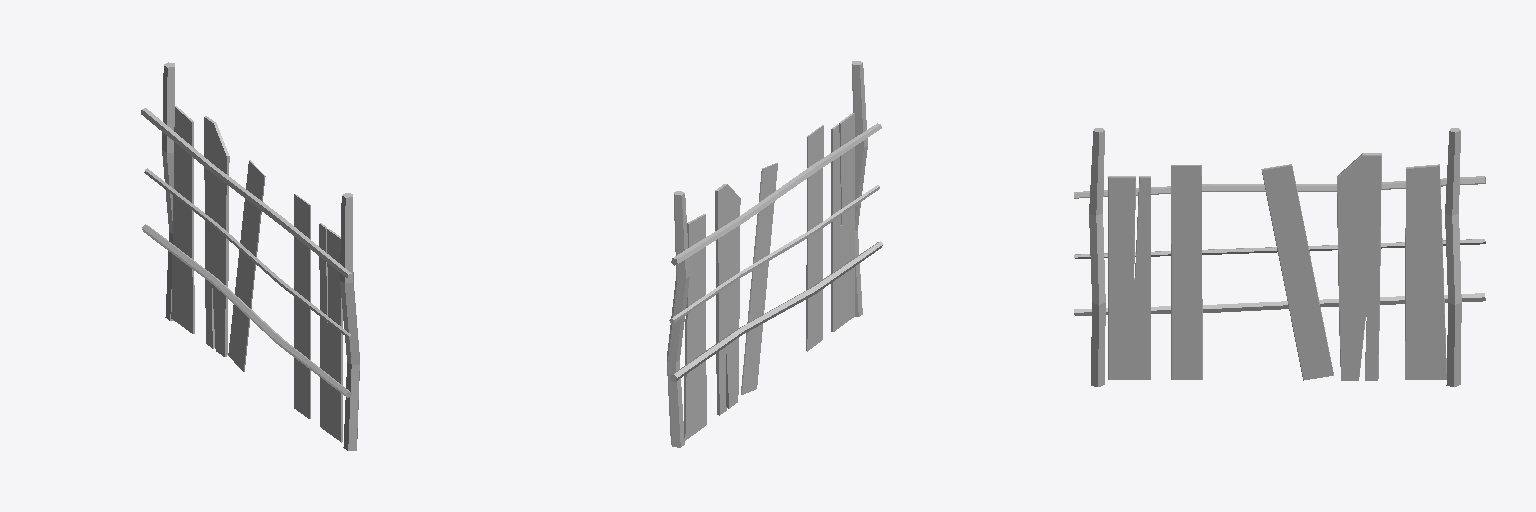
The model's file is Palissade03.obj.
The picture shows the model from 3 angles: view 1: azimuth 30°, elevation 25°; view 2: azimuth 150°, elevation 25°; view 3: azimuth 270°, elevation 25°; orthographic projection.
Visible parts, largest first — view 1: Palissade03; view 2: Palissade03; view 3: Palissade03.
Boxes of the visible parts, x1,y1,x2,y2 form: Palissade03: [141, 62, 359, 450]; Palissade03: [667, 61, 882, 447]; Palissade03: [1074, 128, 1485, 386].
Bounding box in the file's own units: 0.5276 × 4.63 × 6.82.